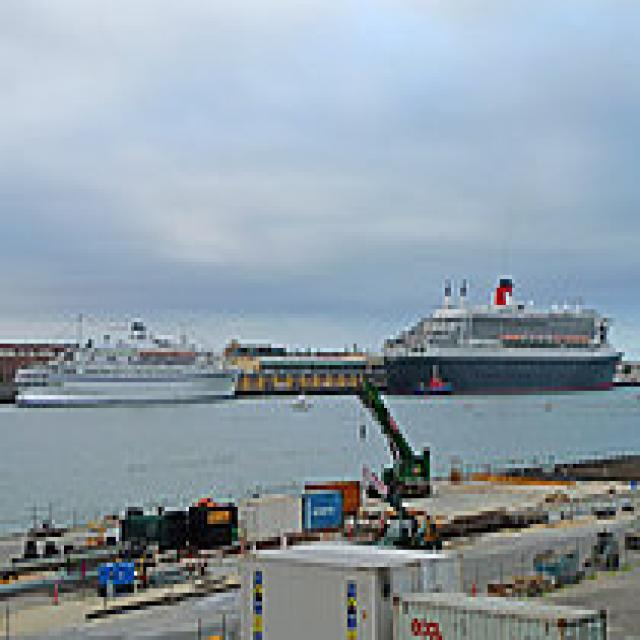Ship: (376, 259, 635, 405)
